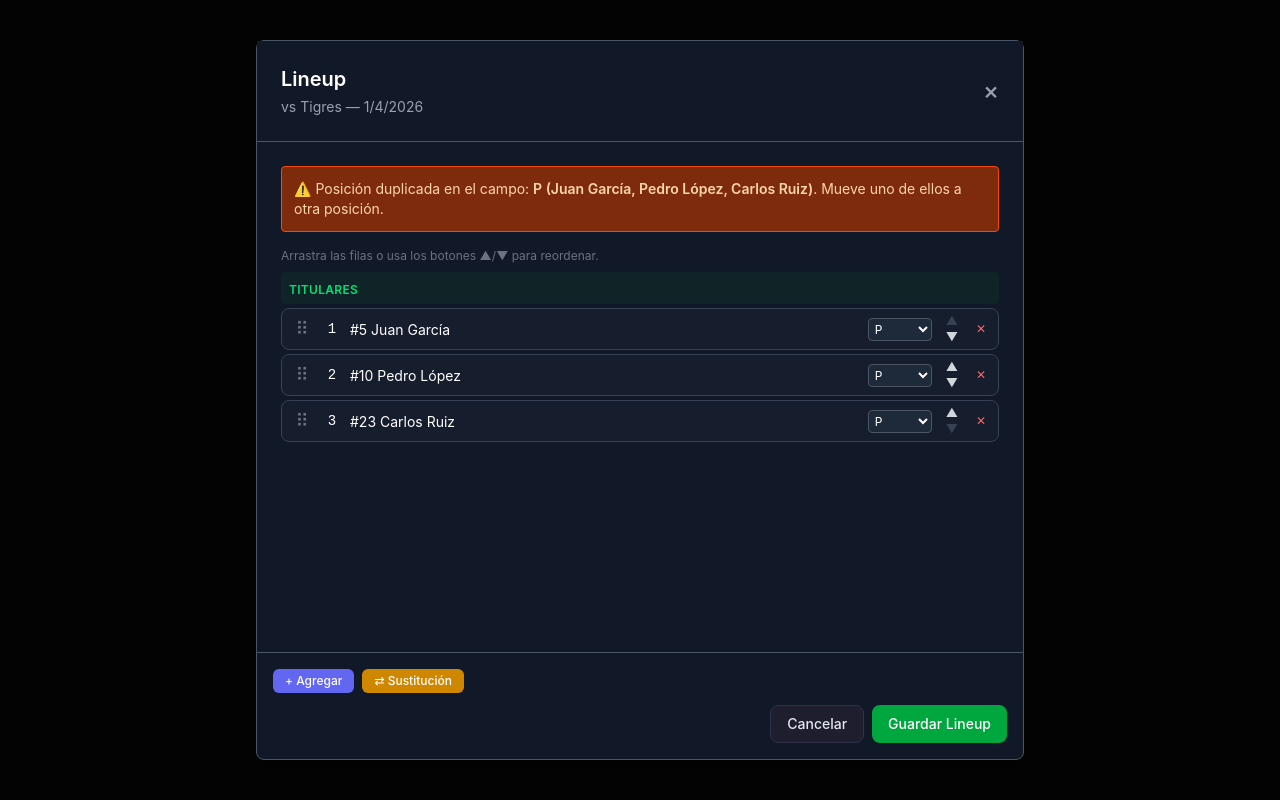
Test: LineupModal — Fase 5: control de sustituciones (lineupFromDB) › bloquea la sustitución y muestra error cuando el lineup NO ha sido guardado
This screenshot has width=1280, height=800.
Step 1. Click the button "⇄ Sustitución" → point(413, 681), box [362, 669, 464, 693]
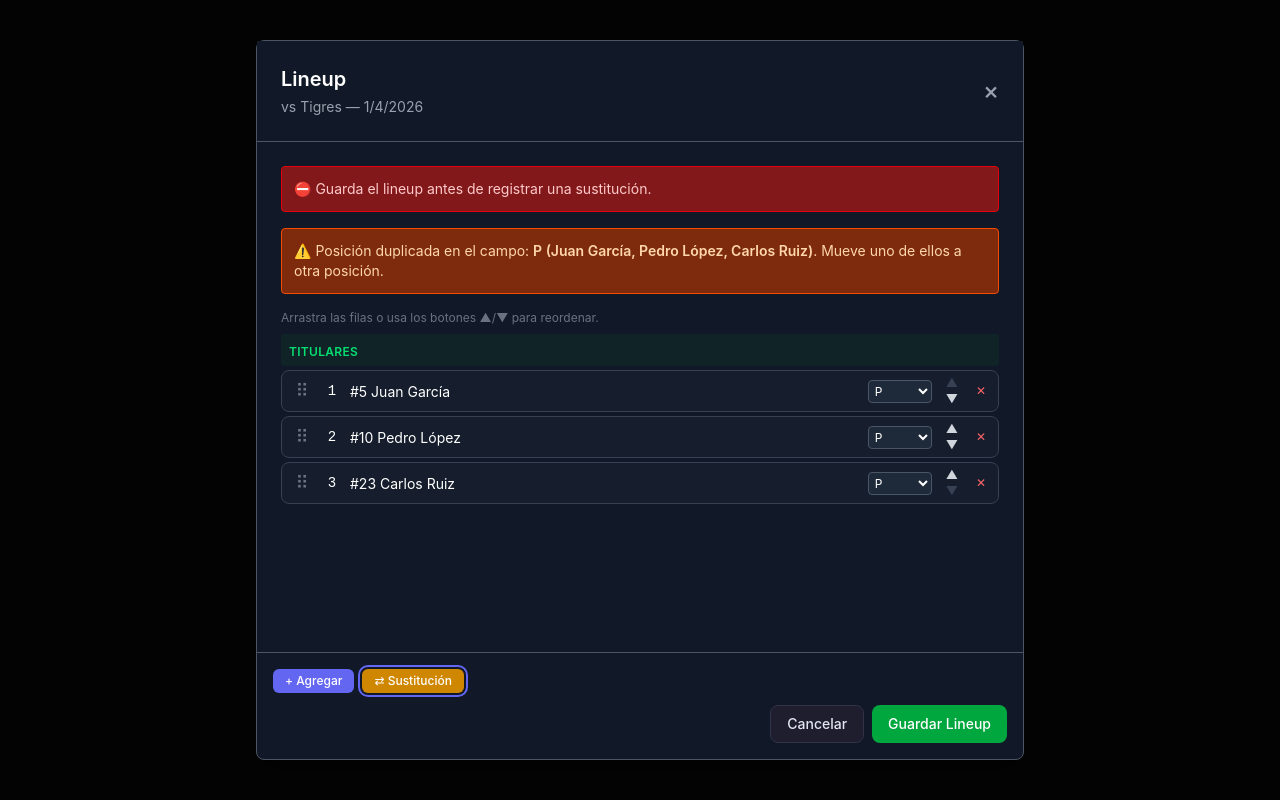
expect the text "⛔ Guarda el lineup antes de registrar una sustitución." is shown: met, box [281, 166, 999, 212]
